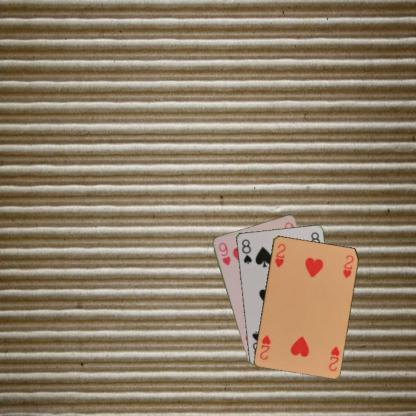2h: (272, 241, 287, 268), (326, 344, 340, 372)
8s: (238, 236, 252, 266)
9h: (216, 240, 232, 267)
